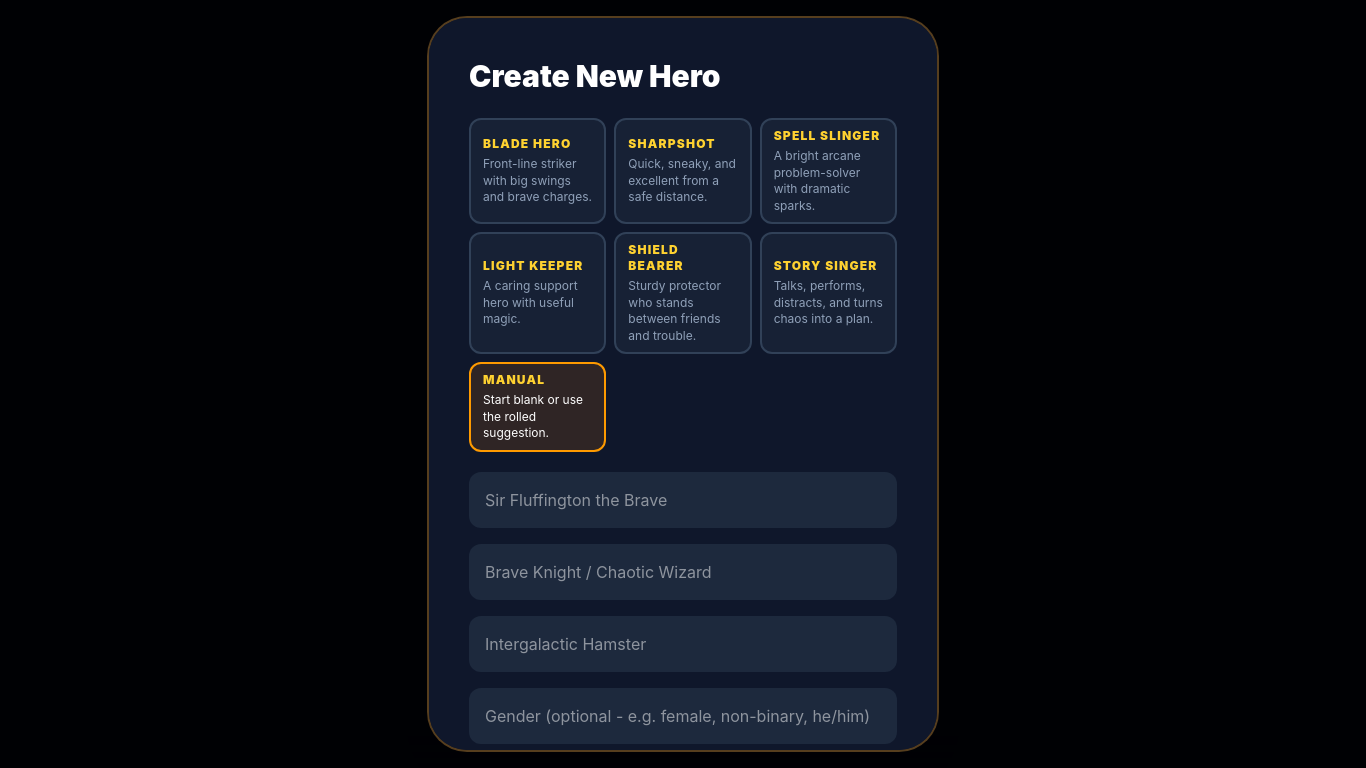
CharacterForm › fills fields from each preset
The width and height of the screenshot is (1366, 768).
Step 1. Click the text "Blade Hero" → (527, 144), box x1=483 y1=136 x2=571 y2=151
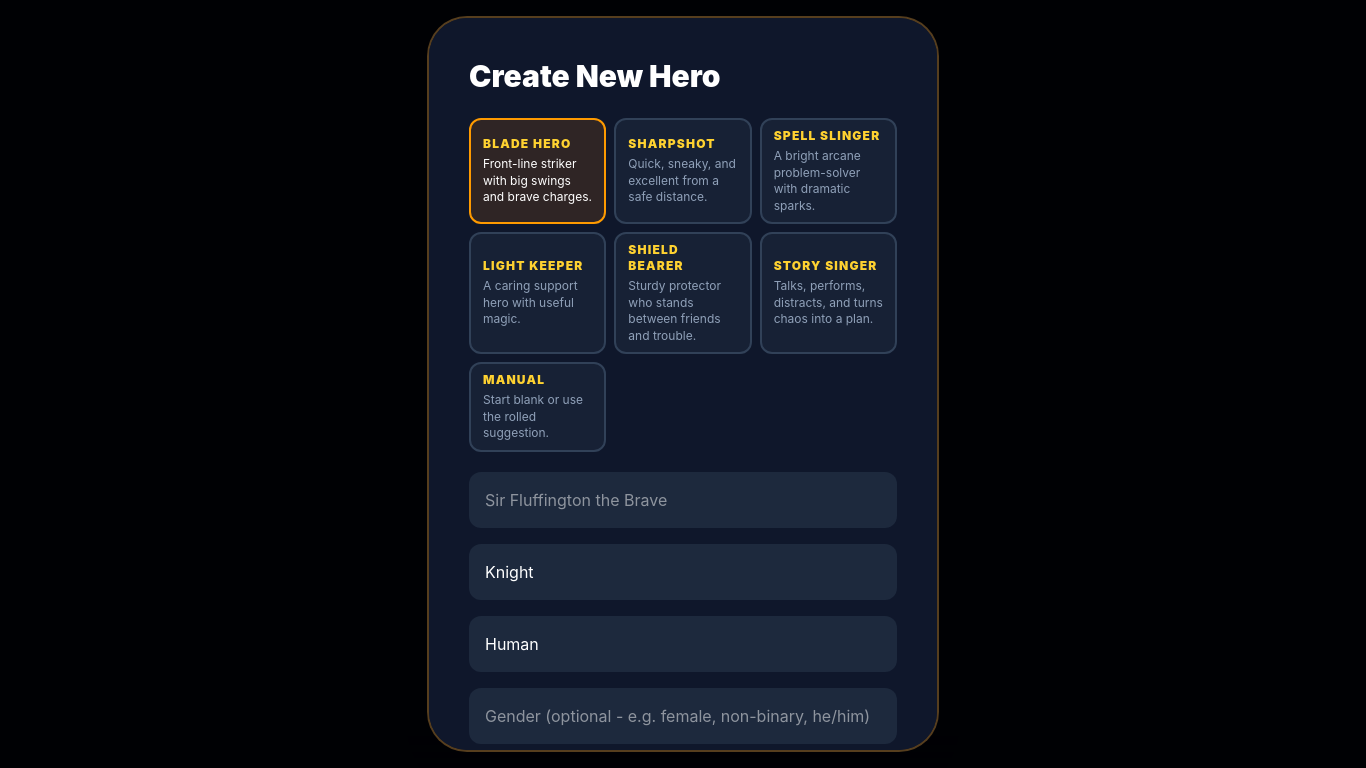
Expected: the element named "might" holds "5", x1=469 y1=472 x2=897 y2=752
Expected: the 1st field named "class" holds "Knight", x1=469 y1=544 x2=897 y2=600
Step 2. Click the text "Sharpshot" → (672, 144), box x1=628 y1=136 x2=716 y2=151
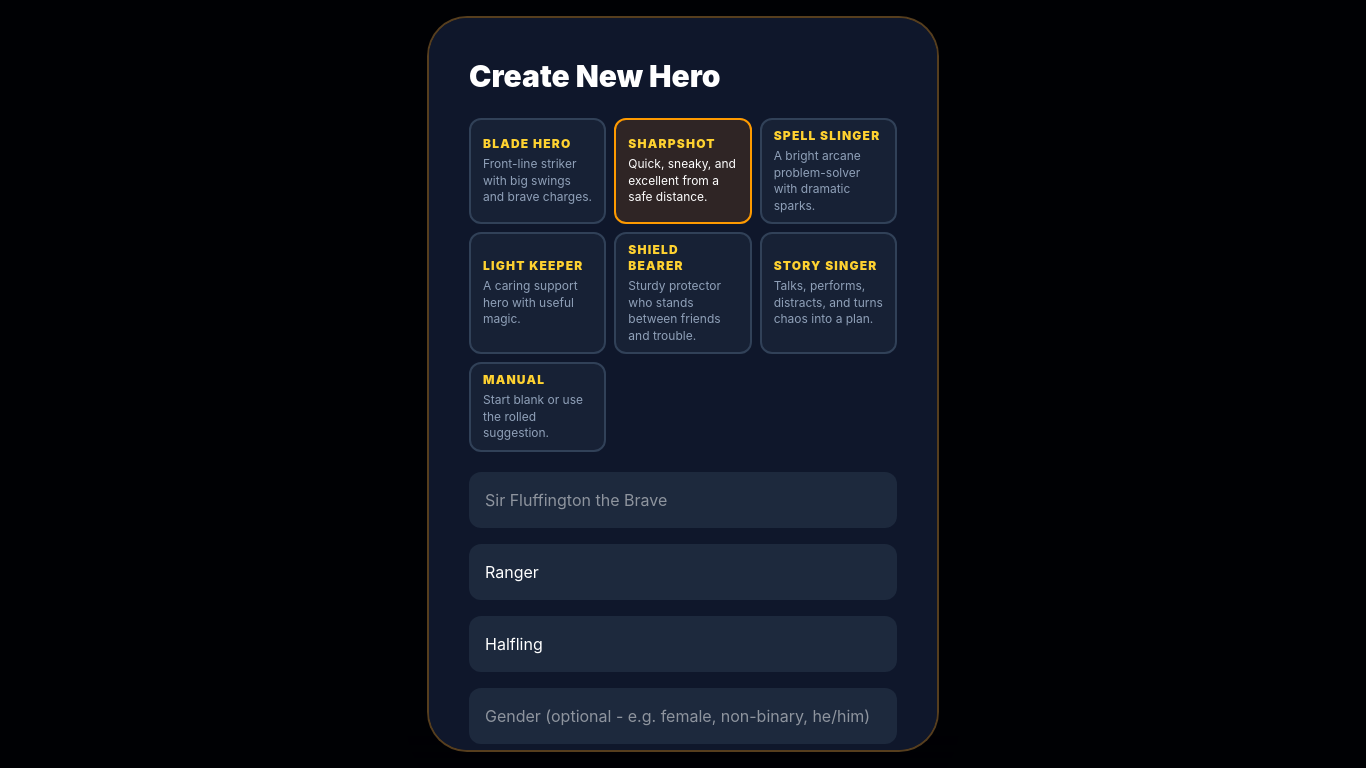
Expected: the element named "might" holds "2", x1=469 y1=472 x2=897 y2=752
Expected: the 1st field named "class" holds "Ranger", x1=469 y1=544 x2=897 y2=600
Step 3. Click the text "Spell Slinger" → (828, 136), box x1=774 y1=128 x2=883 y2=144
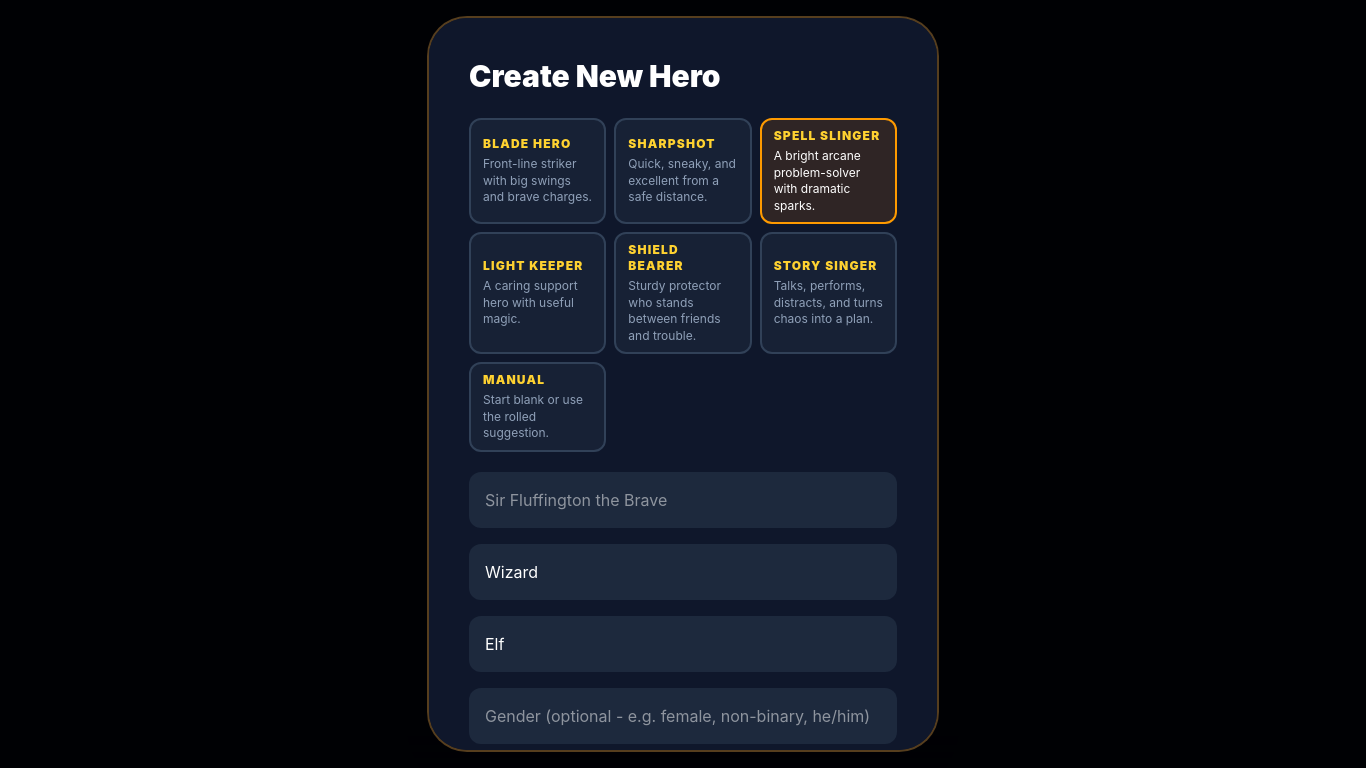
Expected: the element named "might" holds "1", x1=469 y1=472 x2=897 y2=752
Expected: the 1st field named "class" holds "Wizard", x1=469 y1=544 x2=897 y2=600
Step 4. Click the text "Light Keeper" → (538, 266), box x1=483 y1=258 x2=592 y2=274
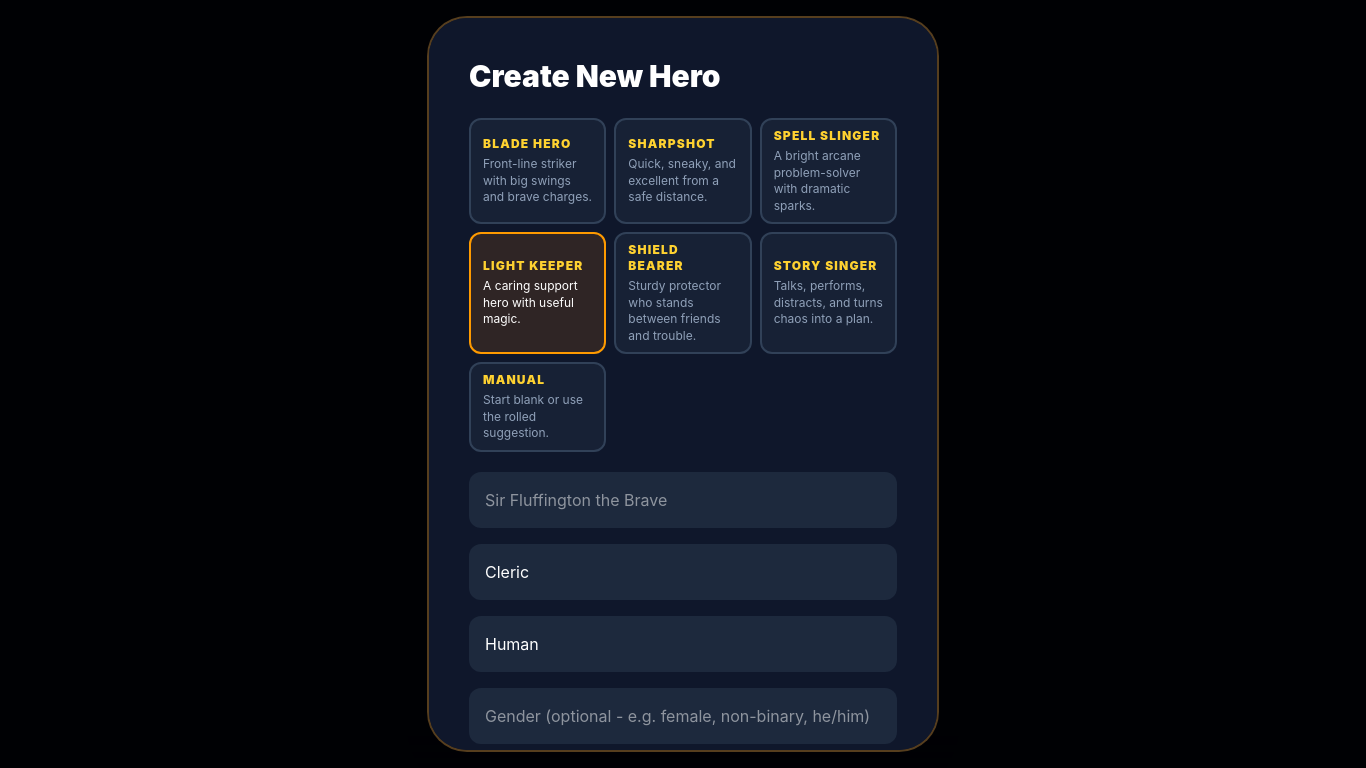
Expected: the element named "might" holds "2", x1=469 y1=472 x2=897 y2=752
Expected: the 1st field named "class" holds "Cleric", x1=469 y1=544 x2=897 y2=600
Step 5. Click the text "Shield Bearer" → (656, 258), box x1=628 y1=242 x2=684 y2=273
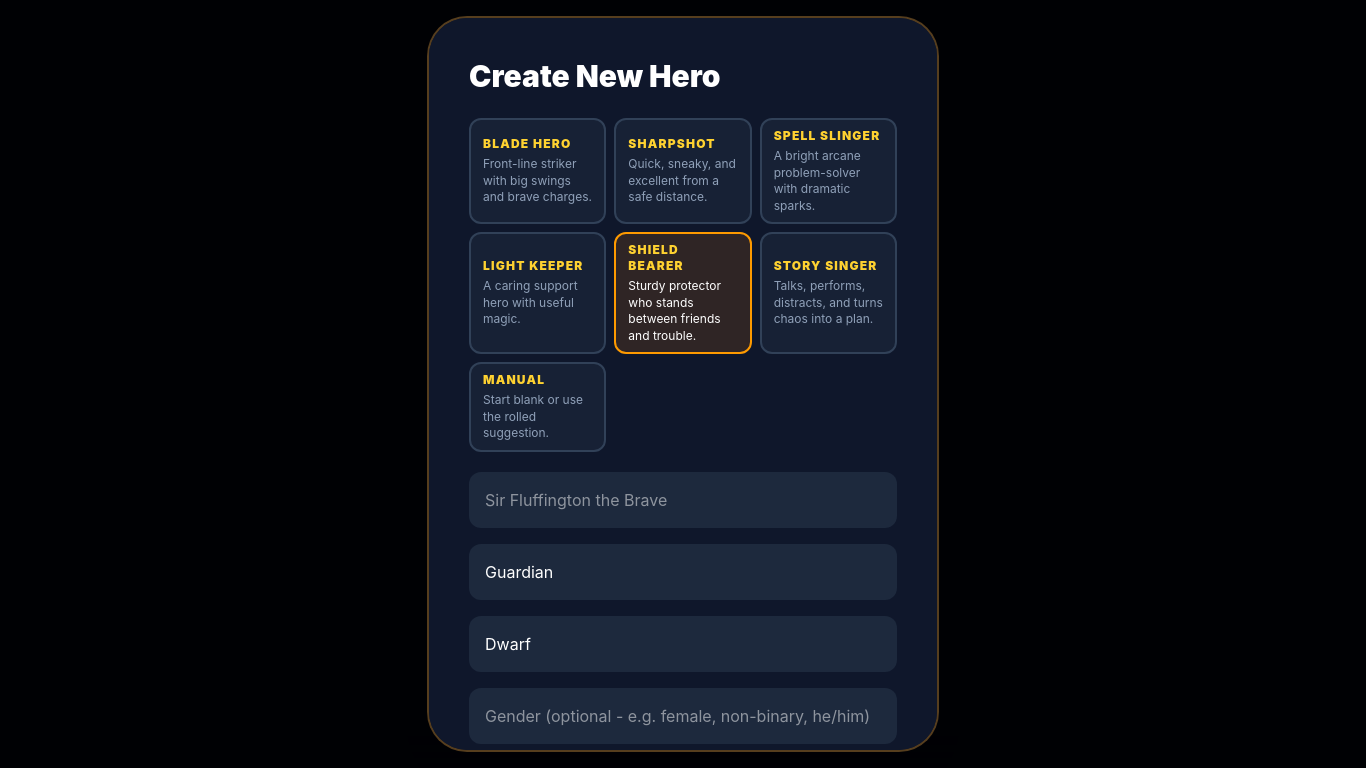
Expected: the element named "might" holds "4", x1=469 y1=472 x2=897 y2=752
Expected: the 1st field named "class" holds "Guardian", x1=469 y1=544 x2=897 y2=600
Step 6. Click the text "Story Singer" → (828, 266), box x1=774 y1=258 x2=883 y2=274
(page scrolled)
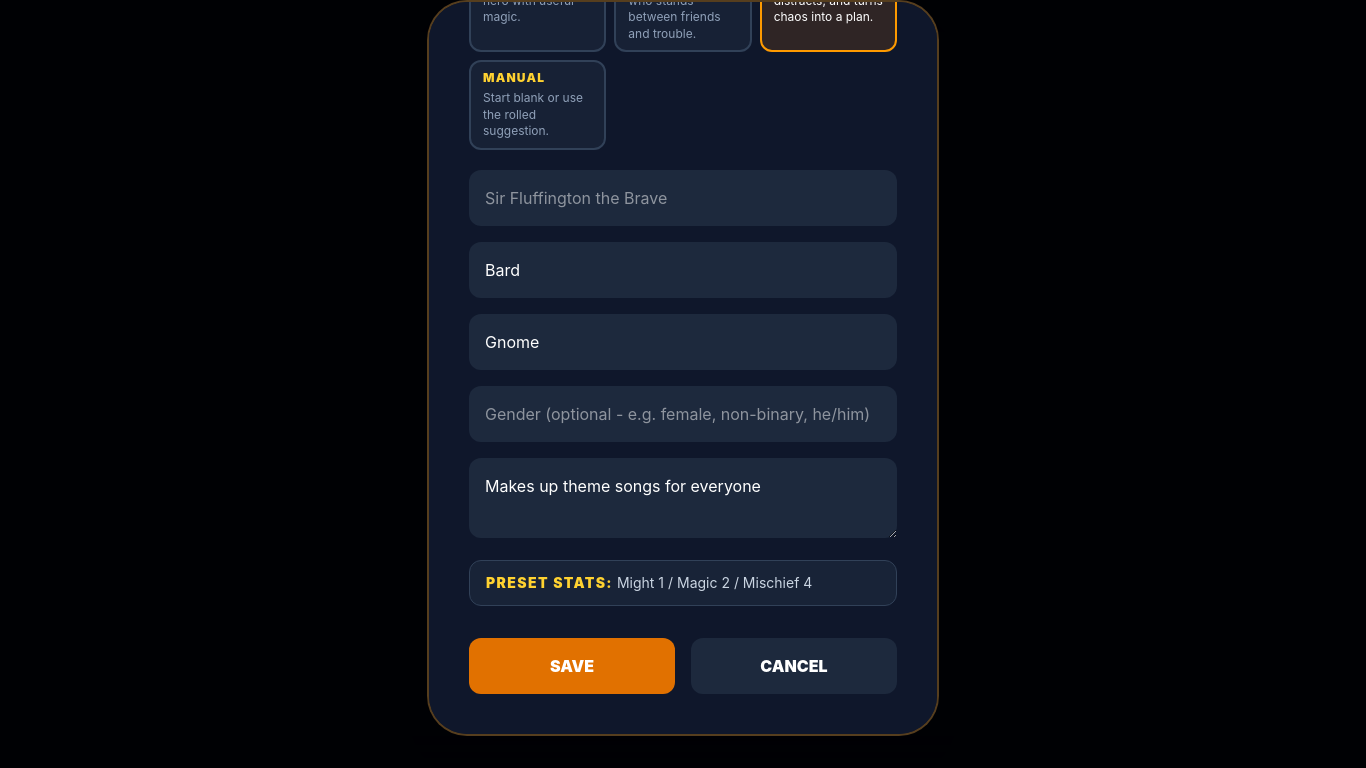
Expected: the element named "might" holds "1", x1=469 y1=170 x2=897 y2=606
Expected: the 1st field named "class" holds "Bard", x1=469 y1=242 x2=897 y2=298
